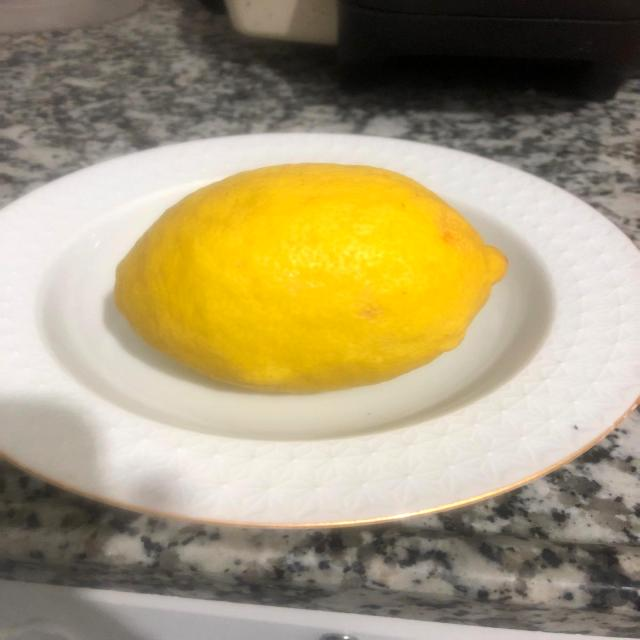lemon: (105, 150, 516, 400)
